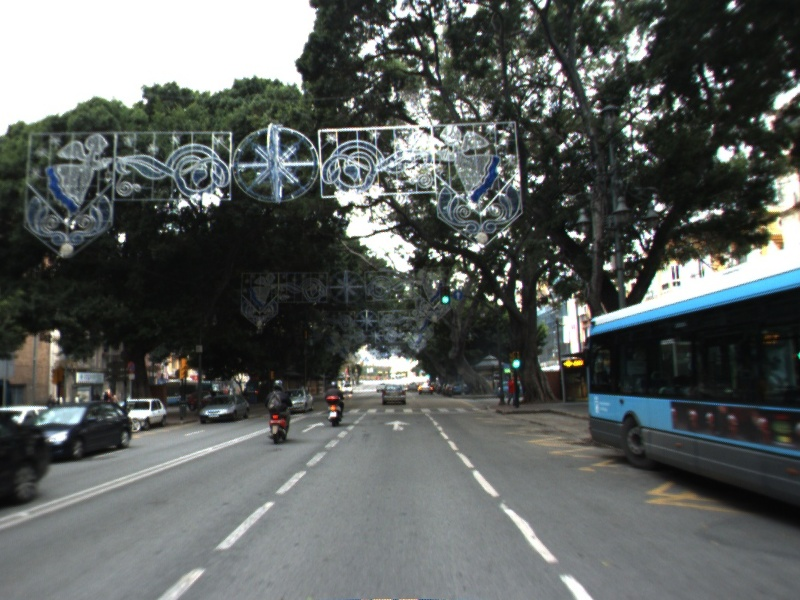STRAIGHT: (383, 418, 414, 433), (300, 420, 327, 434)
